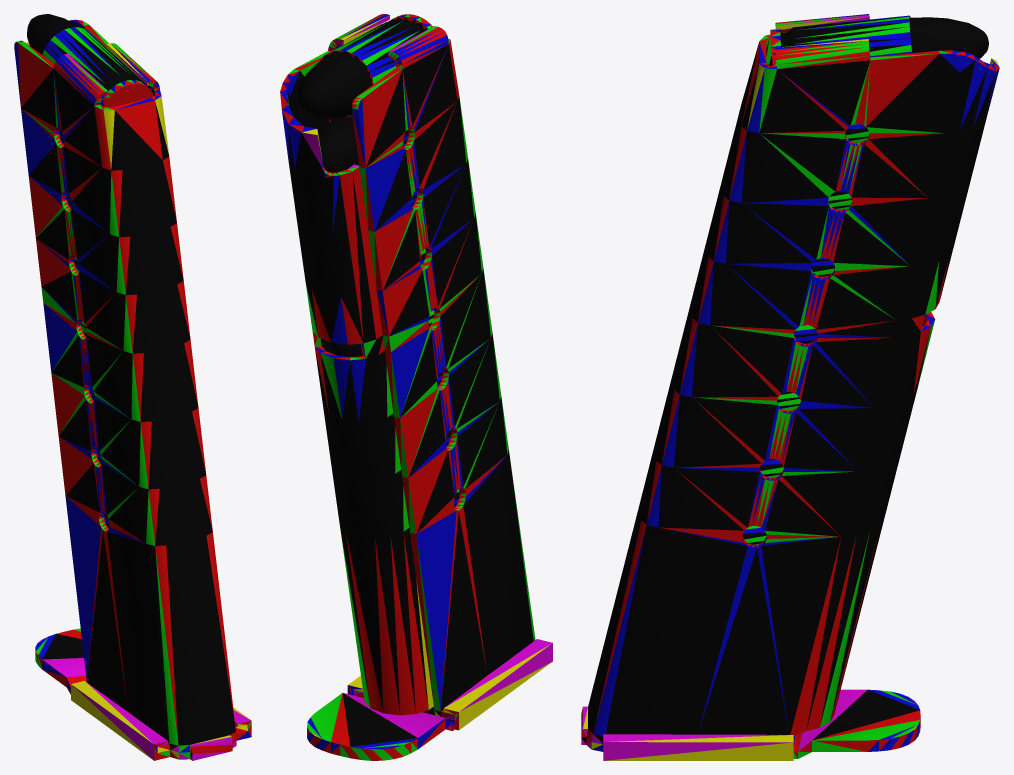
Rendered from field_magazine.glb.
The picture shows the model from 3 angles, left to right: view 1: azimuth 30°, elevation 25°; view 2: azimuth 150°, elevation 25°; view 3: azimuth 270°, elevation 25°; orthographic projection. The views are drawn at different scales.
Parts seen in each view (by area): view 1: field_magazine; view 2: field_magazine; view 3: field_magazine.
Boxes of the visible parts, x1,y1,x2,y2 form: field_magazine: (14,14,251,760); field_magazine: (280,14,552,760); field_magazine: (581,14,999,760).
Bounding box in the file's own units: 0.0176 × 0.1072 × 0.0569.
